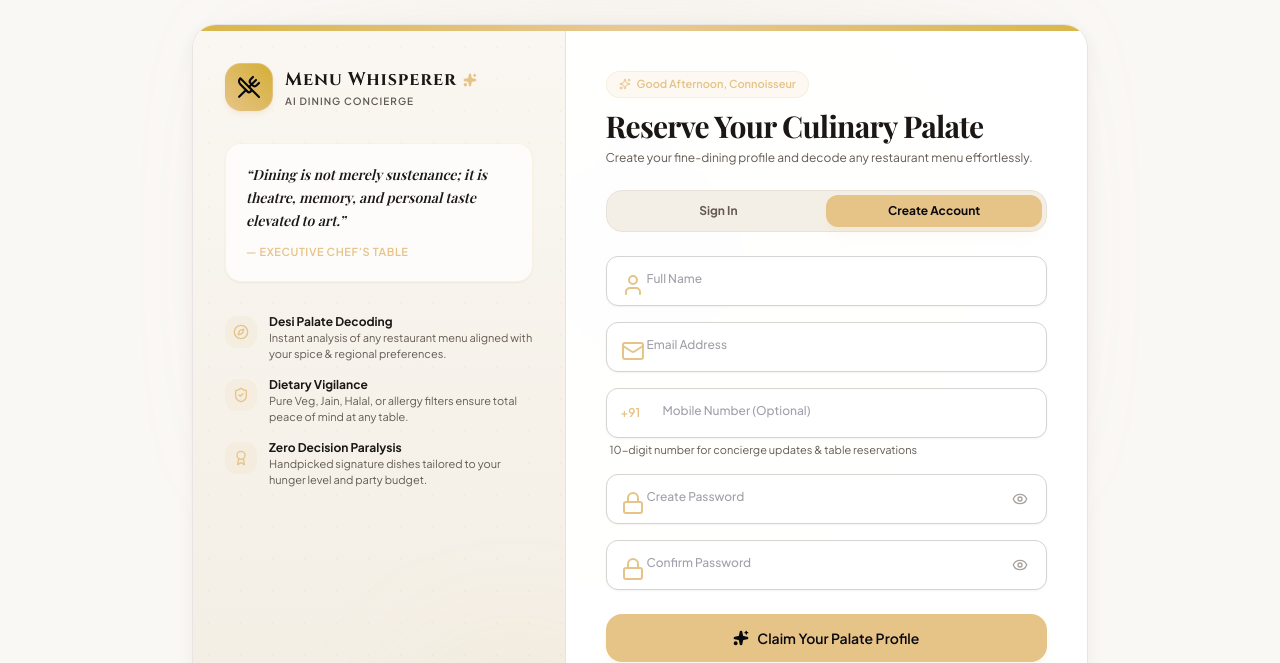
Test case: AuthPage component › shows password strength indicator when typing in create account mode
Note: Find create password input
Type "Secret123!" into the password field labelled "Create Password". click: (826, 499)
box: [606, 475, 1046, 523]
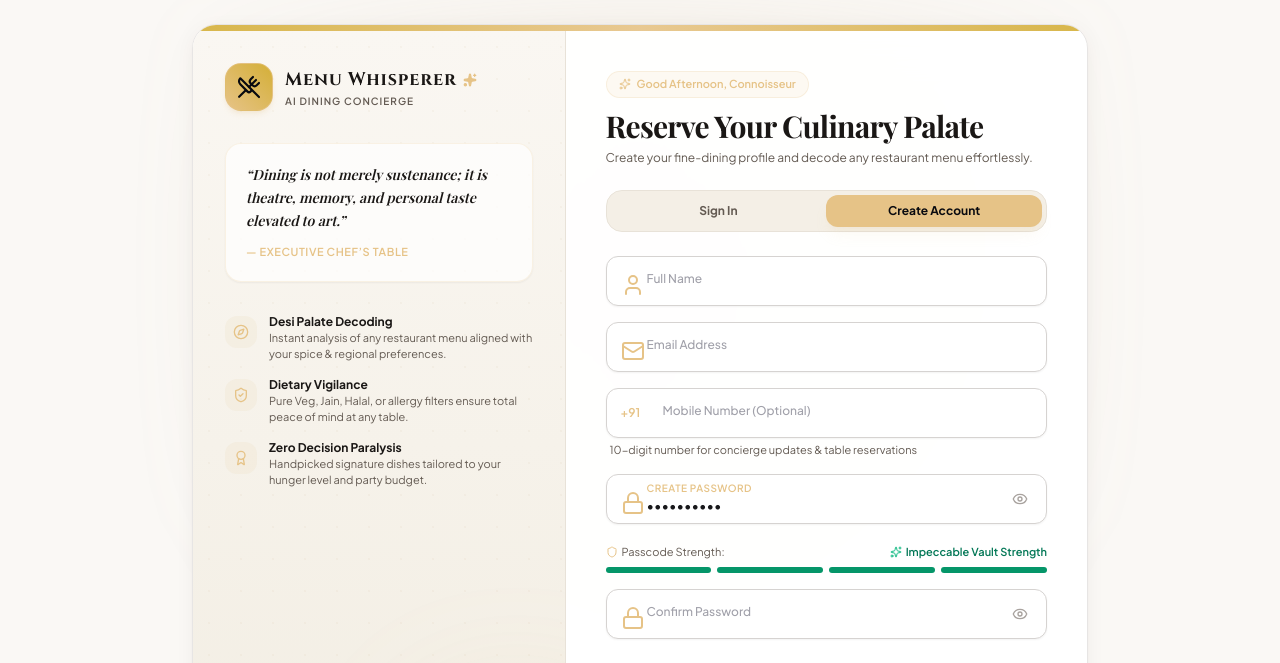
Expected: the text "Passcode Strength:" is shown, [606, 544, 725, 560]
